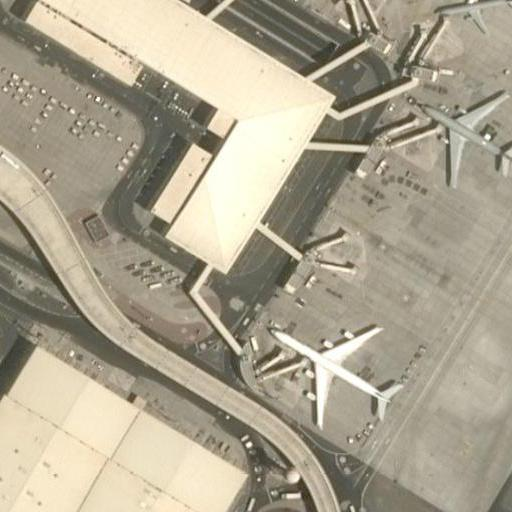Aircraft: (269, 313, 402, 430), (410, 74, 512, 184), (436, 0, 512, 27)
